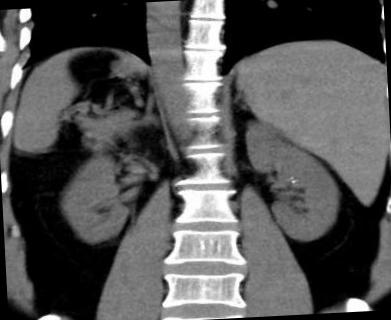Tas_Var: (288, 176, 294, 180), (291, 180, 295, 184)
